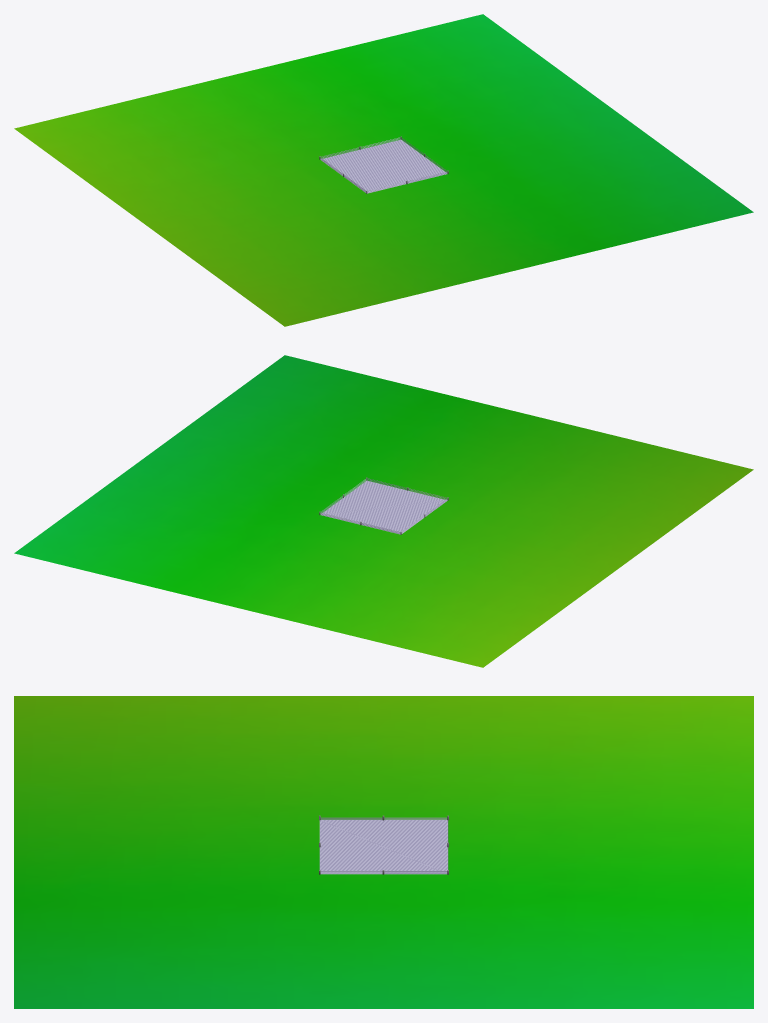
The model's file is level_square.fbx.
3 renders of one model, top to bottom at view 1: azimuth 30°, elevation 25°; view 2: azimuth 150°, elevation 25°; view 3: azimuth 270°, elevation 25°, orthographic. The views are drawn at different scales.
Visible parts, largest first — view 1: Level_square; view 2: Level_square; view 3: Level_square.
Part boxes in pixels (left/top/right/bottom): Level_square: left=14, top=14, right=753, bottom=326; Level_square: left=14, top=355, right=753, bottom=667; Level_square: left=14, top=696, right=753, bottom=1008.
Size of the model in its own units: 558 by 7.74 by 558.
